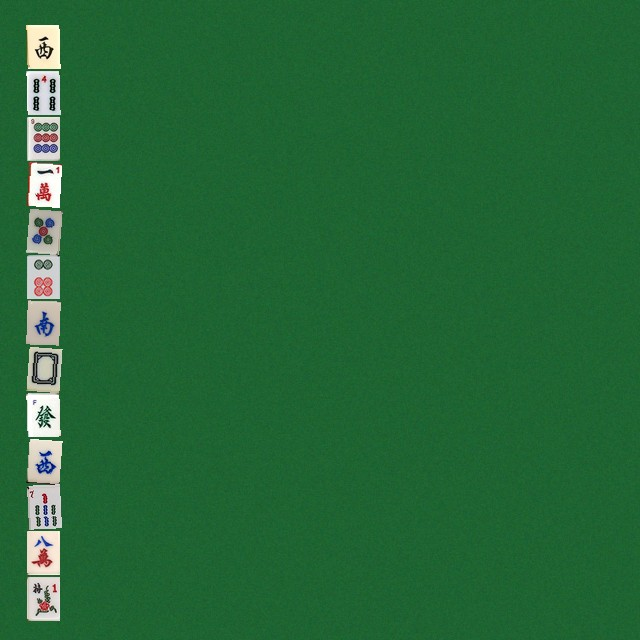tile: (26, 24, 59, 68), (26, 70, 59, 114), (26, 116, 59, 160), (26, 162, 59, 206), (26, 208, 59, 252), (26, 254, 59, 298), (26, 300, 59, 344), (26, 346, 59, 390), (26, 392, 59, 436), (26, 438, 59, 482), (26, 484, 59, 528), (26, 530, 59, 574), (26, 576, 59, 620)
